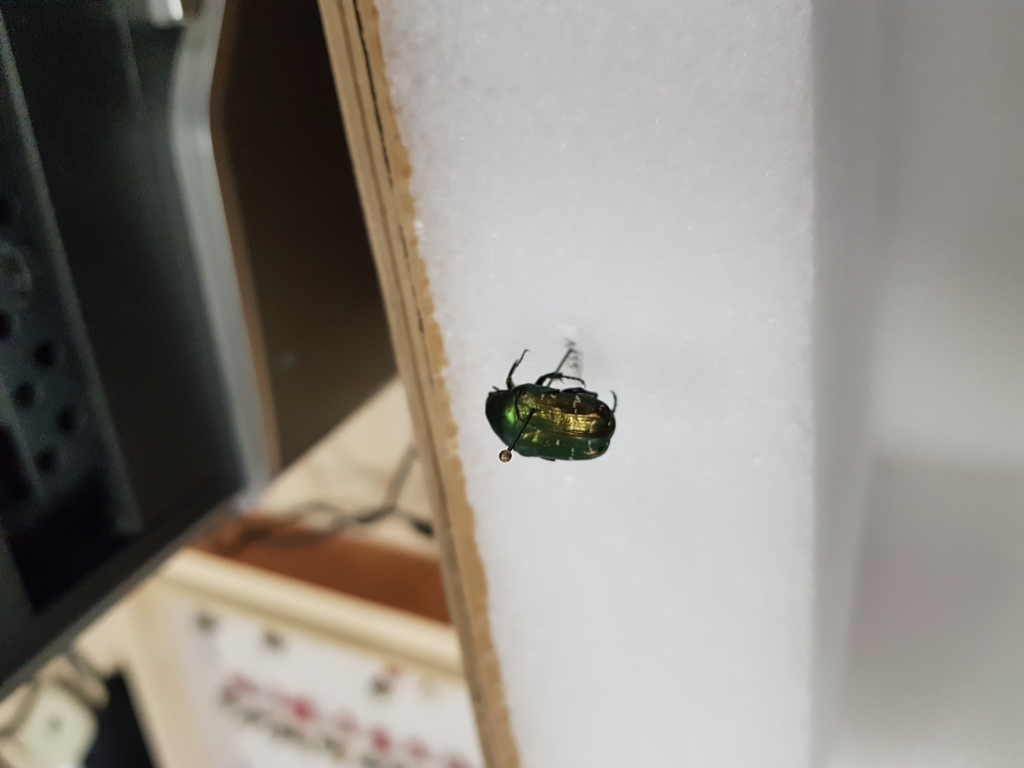Cetonia_kemali: (483, 339, 632, 466)
